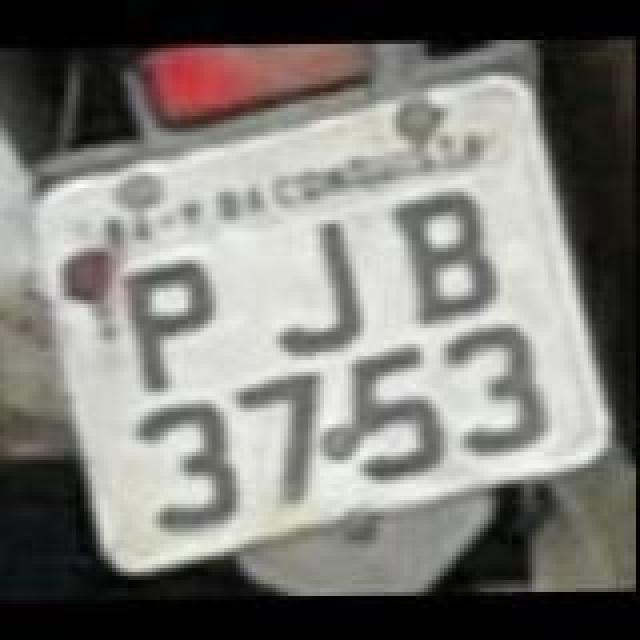3: (136, 380, 248, 536), (442, 314, 550, 462)
5: (342, 340, 450, 488)
7: (234, 366, 334, 514)
B: (390, 184, 506, 324)
J: (272, 218, 372, 358)
P: (118, 252, 214, 392)
